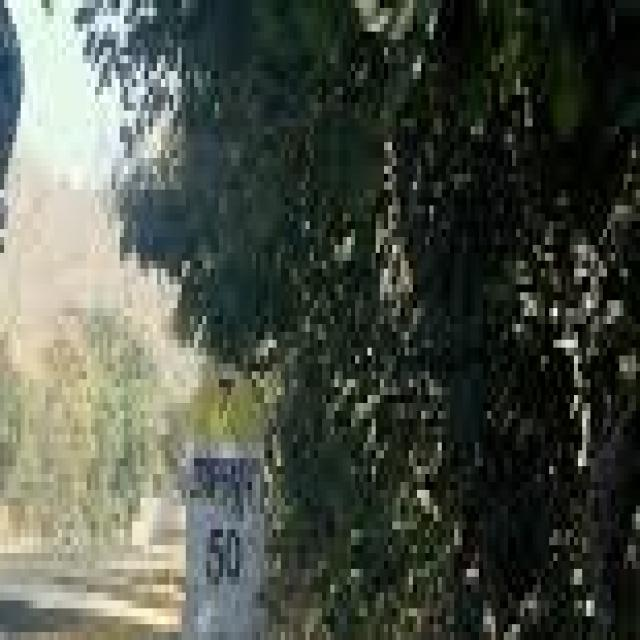bike: (0, 142, 37, 640)
